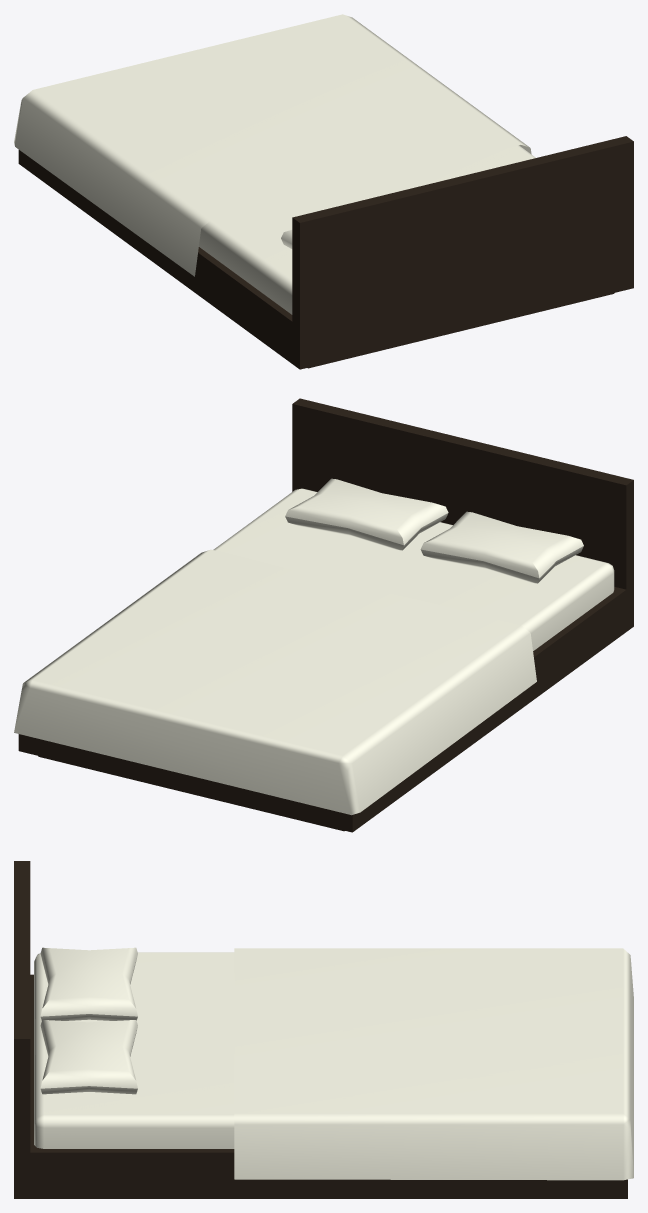
3 views of the same model, one above another, from view 1: azimuth 30°, elevation 25°; view 2: azimuth 150°, elevation 25°; view 3: azimuth 270°, elevation 25° (orthographic). The views are drawn at different scales.
Visible parts, largest first — view 1: bedsheet_low, base_low, mattress_low; view 2: bedsheet_low, base_low, mattress_low, lcushion_low, rcushion_low; view 3: bedsheet_low, mattress_low, base_low, lcushion_low, rcushion_low.
Part boxes in pixels (bbox=[...]): bedsheet_low: bbox=[14, 14, 531, 276]; base_low: bbox=[18, 136, 633, 369]; mattress_low: bbox=[199, 145, 535, 314]; bedsheet_low: bbox=[14, 549, 536, 815]; base_low: bbox=[18, 398, 633, 832]; mattress_low: bbox=[213, 488, 614, 650]; lcushion_low: bbox=[285, 478, 448, 550]; rcushion_low: bbox=[420, 511, 583, 583]; bedsheet_low: bbox=[234, 948, 633, 1180]; mattress_low: bbox=[34, 952, 234, 1148]; base_low: bbox=[14, 861, 627, 1198]; lcushion_low: bbox=[40, 1020, 137, 1094]; rcushion_low: bbox=[40, 947, 137, 1020].
Bounding box in the file's own units: 10.01 × 4.24 × 14.27.
1 material, 1 textured.
